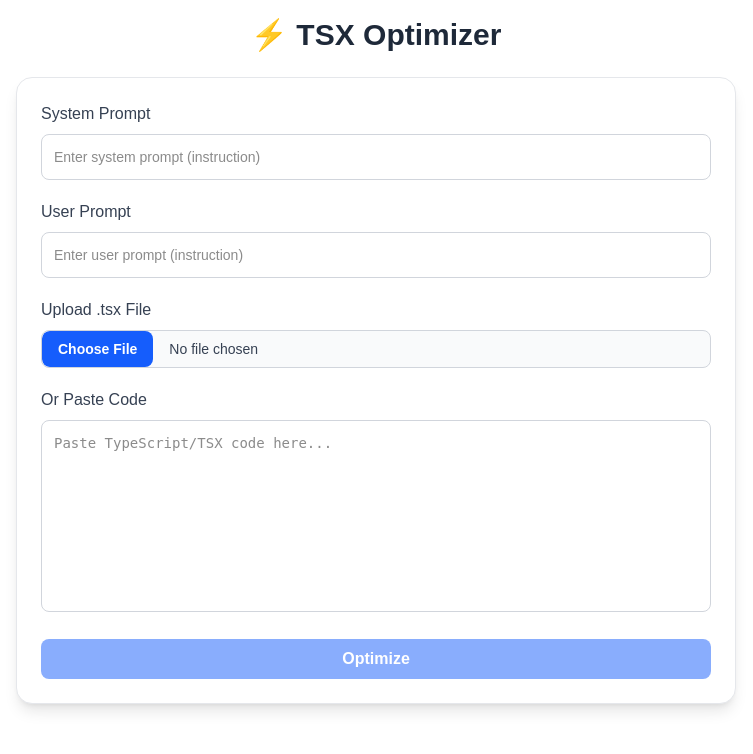
Scenario: CodeOptimizer › renders success output branch only
Type "code" into the text box with placeholder "Paste TypeScript/TSX code here..." at point(376, 516), box x1=41 y1=420 x2=711 y2=612
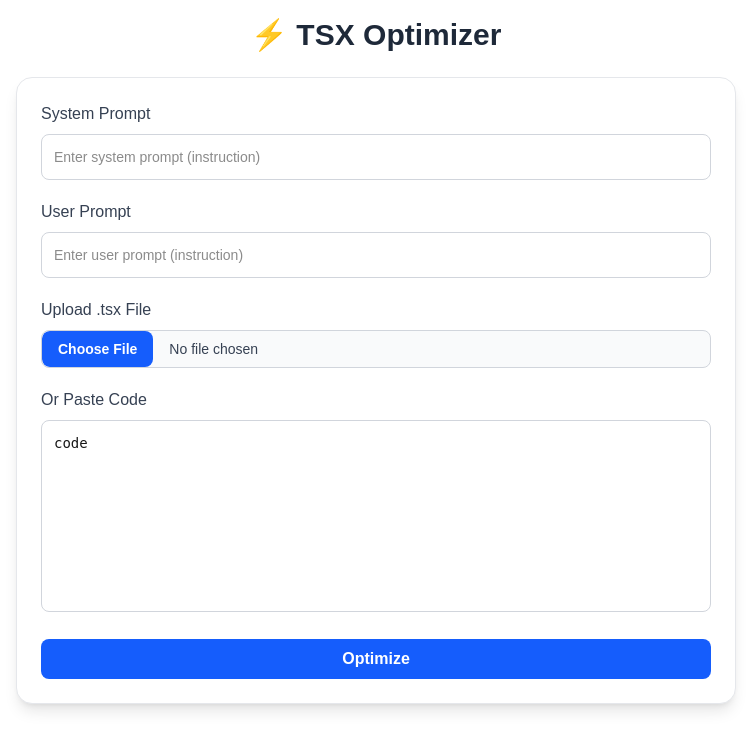
Click the button "Optimize" at point(376, 659), box x1=41 y1=639 x2=711 y2=679
(page scrolled)
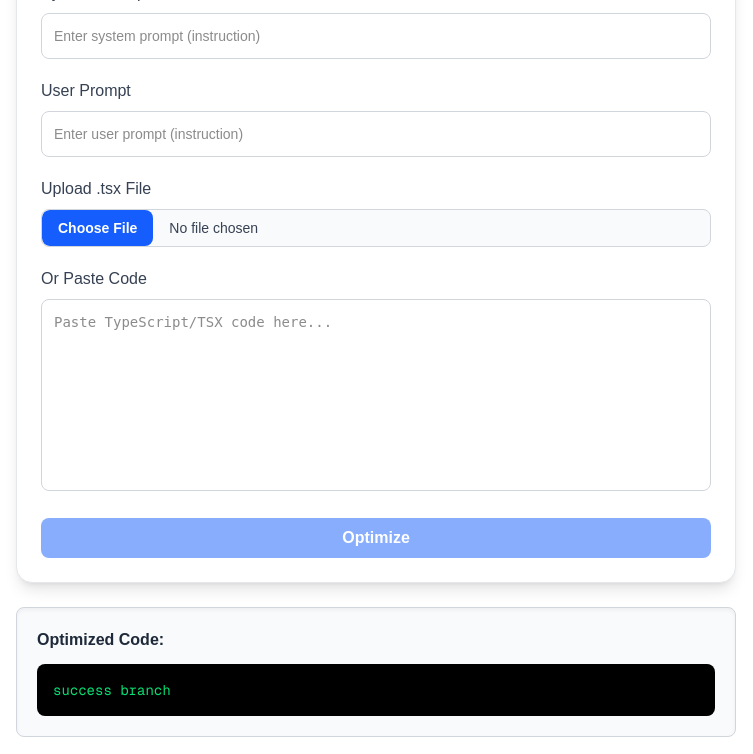
Expected: the heading "Optimized Code:" is shown, x1=37 y1=631 x2=164 y2=648
Expected: the text "success branch" is shown, x1=37 y1=664 x2=715 y2=716
